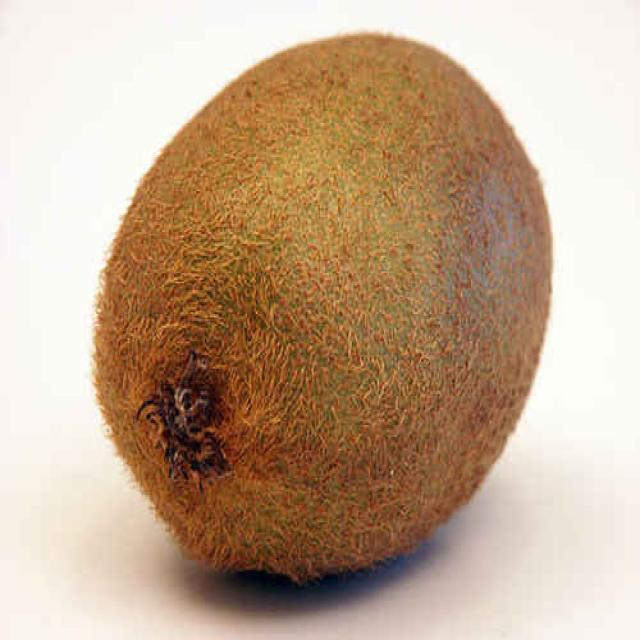kiwi: (95, 34, 553, 585)
